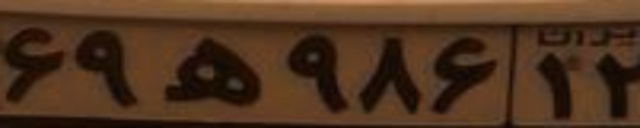1: (533, 52, 574, 118)
2: (592, 51, 639, 118)
6: (427, 35, 499, 113), (2, 27, 64, 104)
8: (355, 36, 423, 114)
9: (72, 26, 138, 104), (285, 34, 347, 111)
he: (161, 35, 264, 104)
